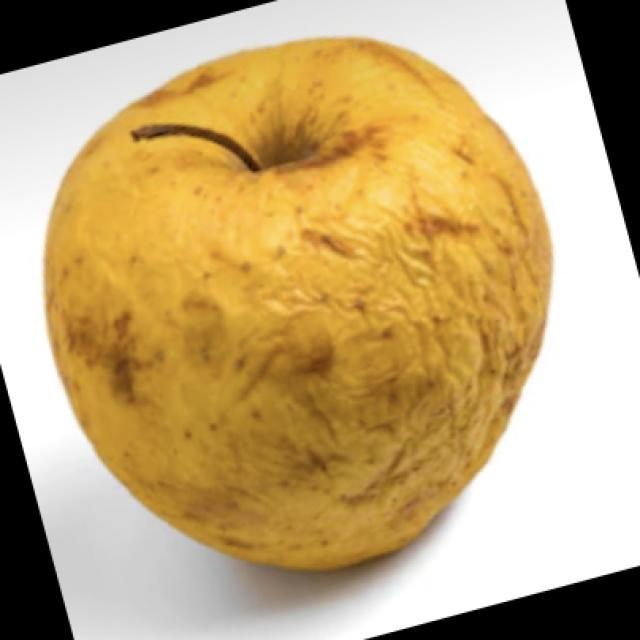Rotten: (15, 40, 553, 567)
